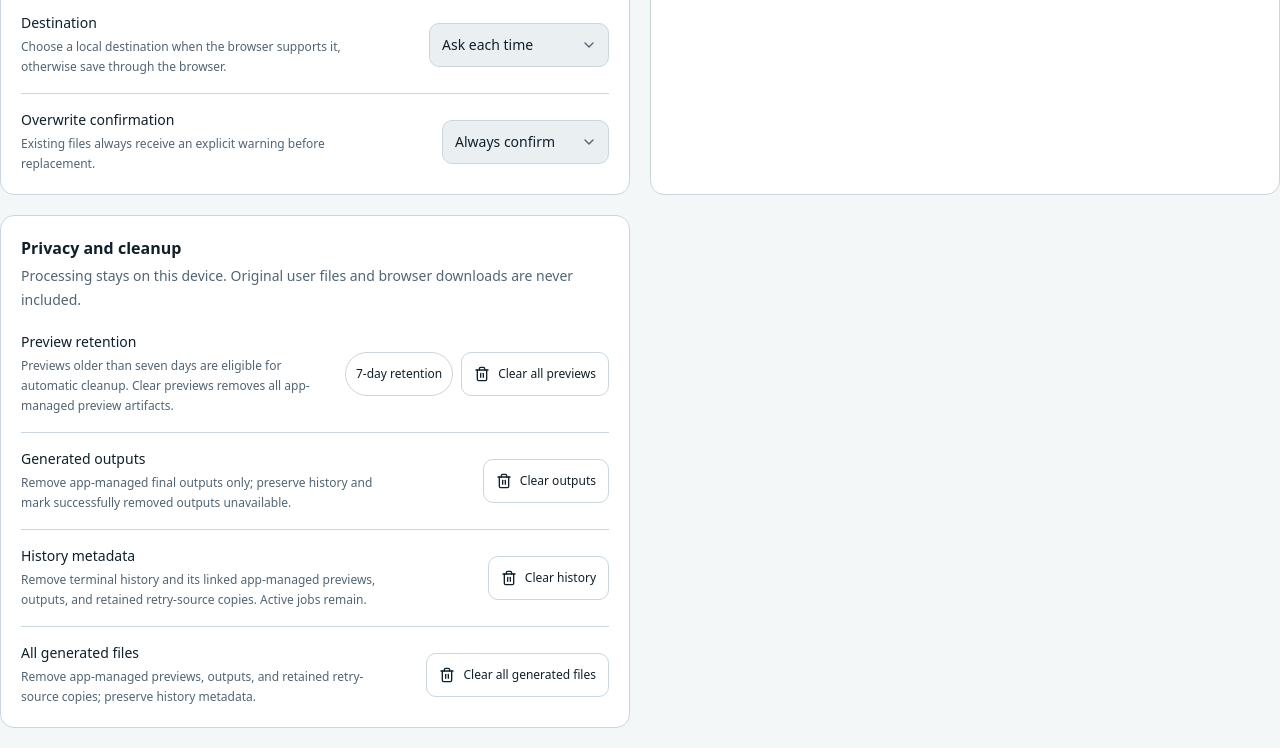
Test: settings panel › removes a real app-managed output artifact after exact-scope confirmation
(page scrolled)
Click the button "Clear outputs".
click(546, 481)  # box [483,459,609,503]
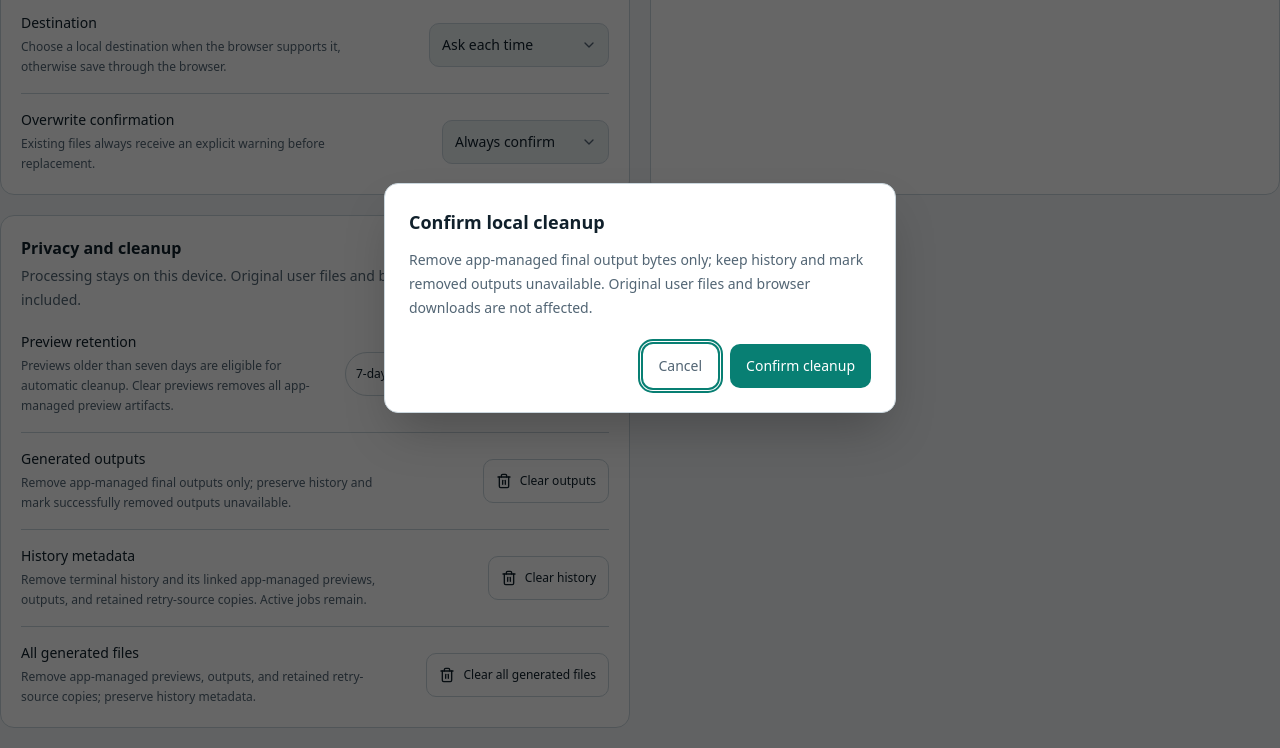
Click the button "Confirm cleanup".
click(801, 366)  # box [730,344,871,388]
(page scrolled)
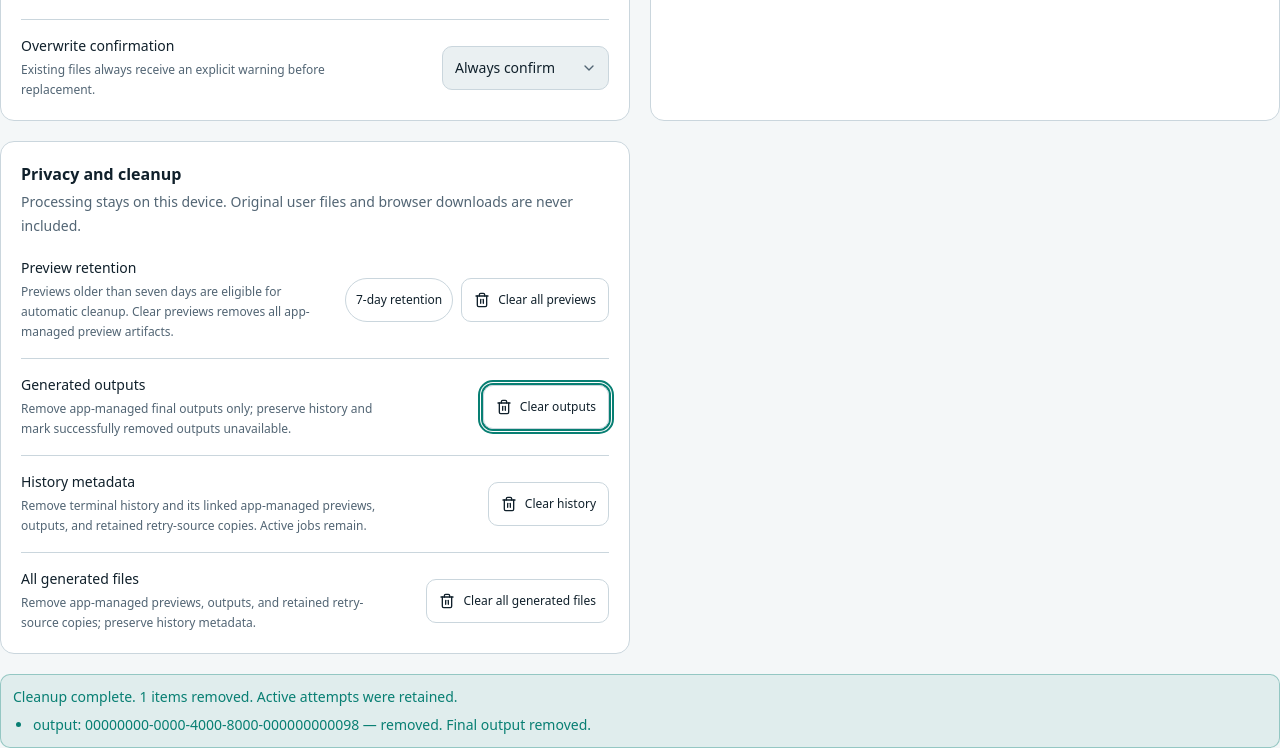
Now the text "Cleanup complete. 1 items removed. Active attempts were retained." is shown, box [13,687,458,706]
